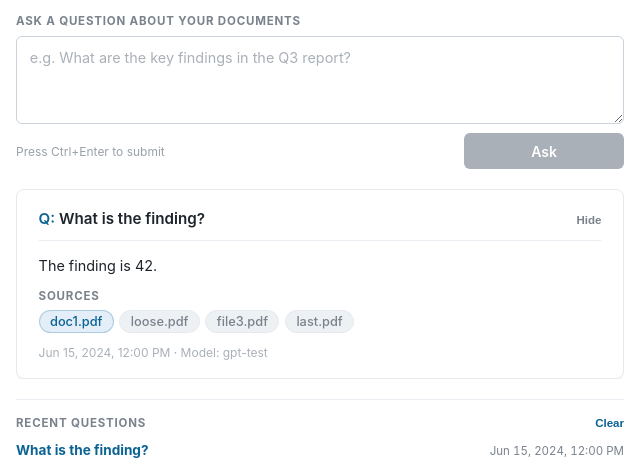
Scenario: QAPanel › hides the open answer when Hide is clicked
Expected: the text "The finding is 42." is shown, [39,257,157,274]
Click the button "Hide" at (589, 220), box [576,214,601,226]
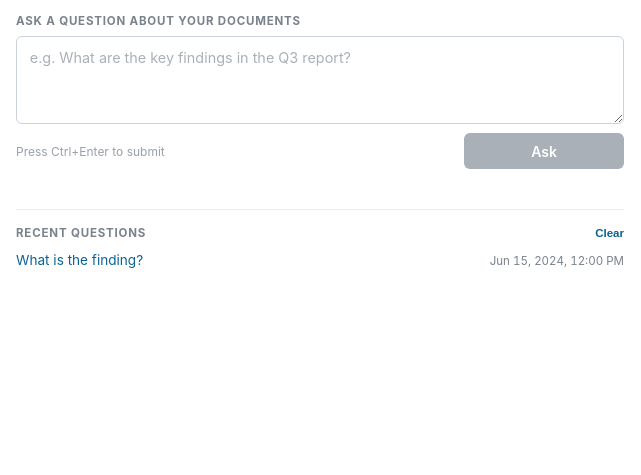
Expected: the text "The finding is 42." is gone
